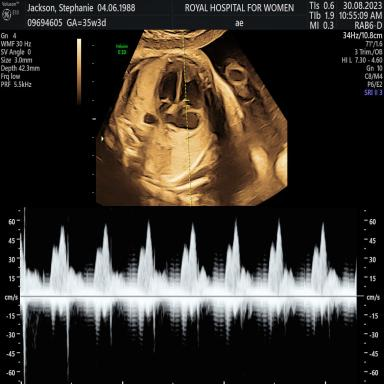Ultrasound-Waves: (29, 211, 355, 384)
